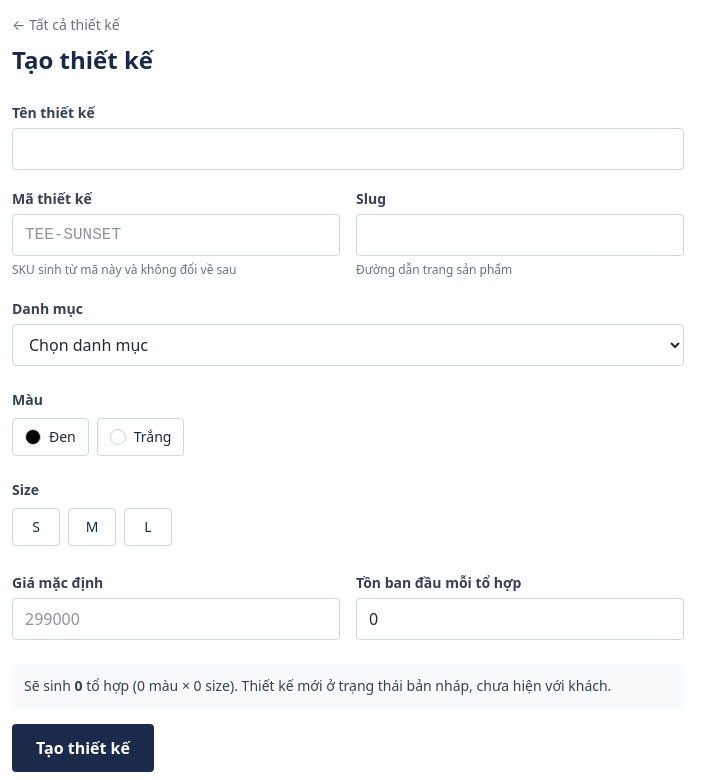
Test case: AdminProductCreatePage › bấm lại vào màu đang chọn thì bỏ chọn
Click the button "Đen" at (50, 437), box x1=12 y1=418 x2=89 y2=456
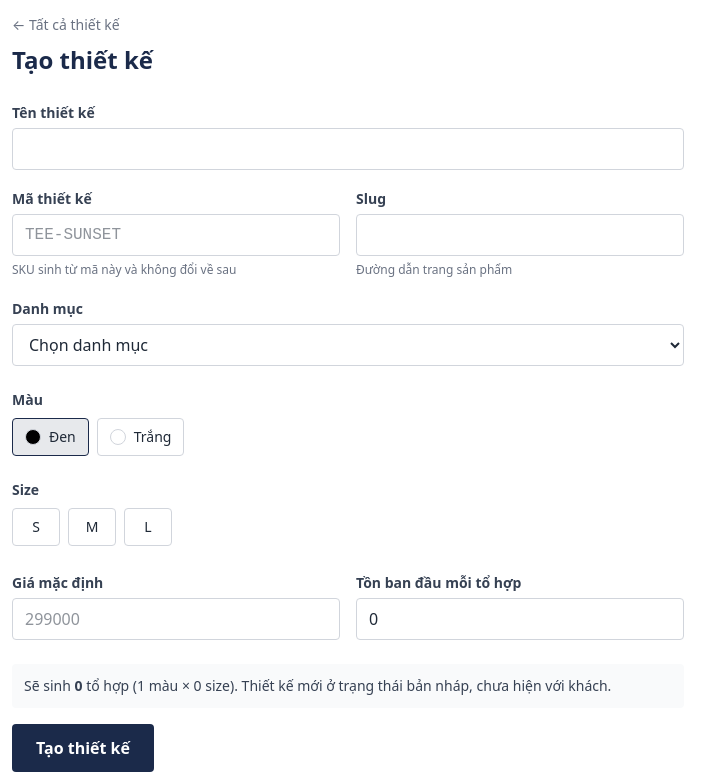
Click the button "S" at (36, 527), box x1=12 y1=508 x2=60 y2=546
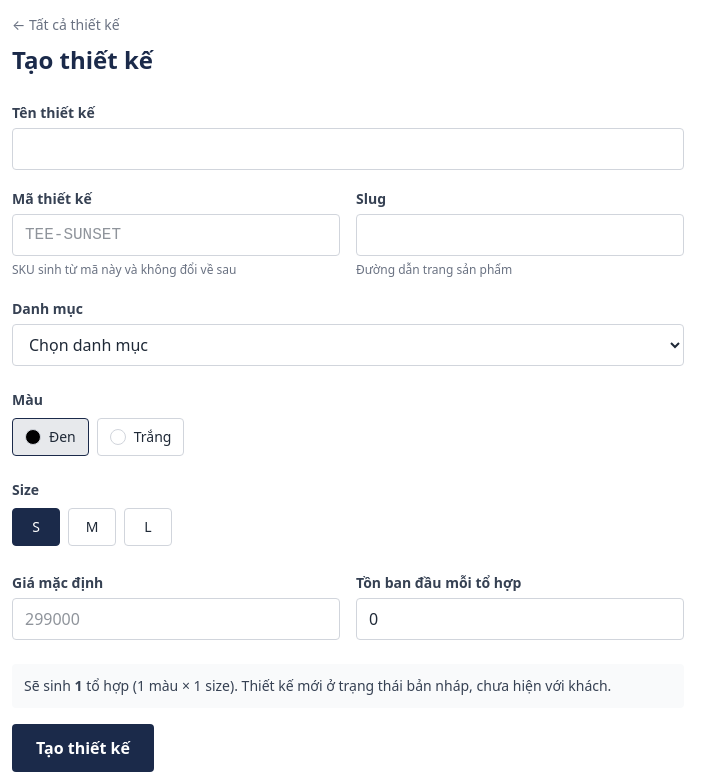
Check: the text "Sẽ sinh 1 tổ hợp" is shown, box x1=12 y1=664 x2=684 y2=708
Click the button "Đen" at (50, 437), box x1=12 y1=418 x2=89 y2=456
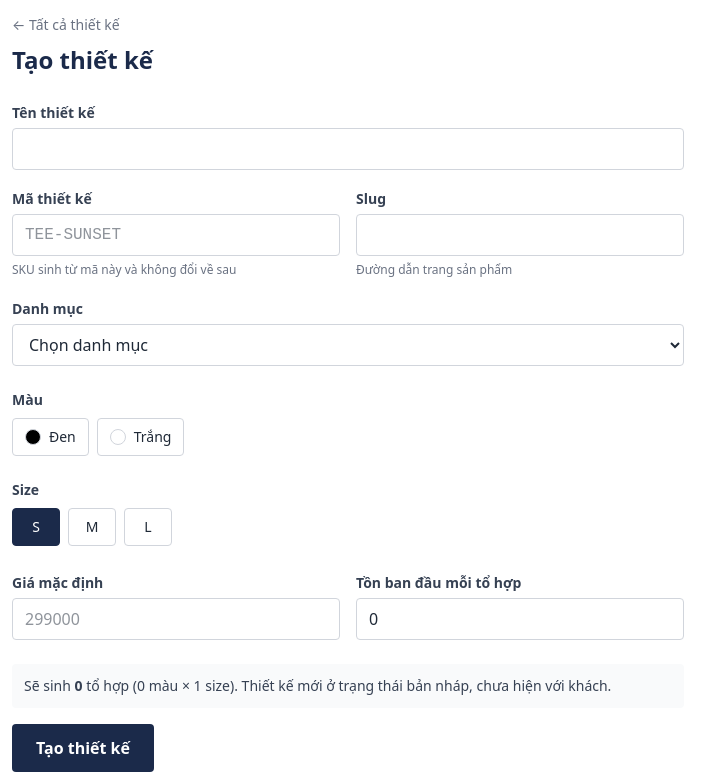
Check: the text "Sẽ sinh 0 tổ hợp" is shown, box x1=12 y1=664 x2=684 y2=708
